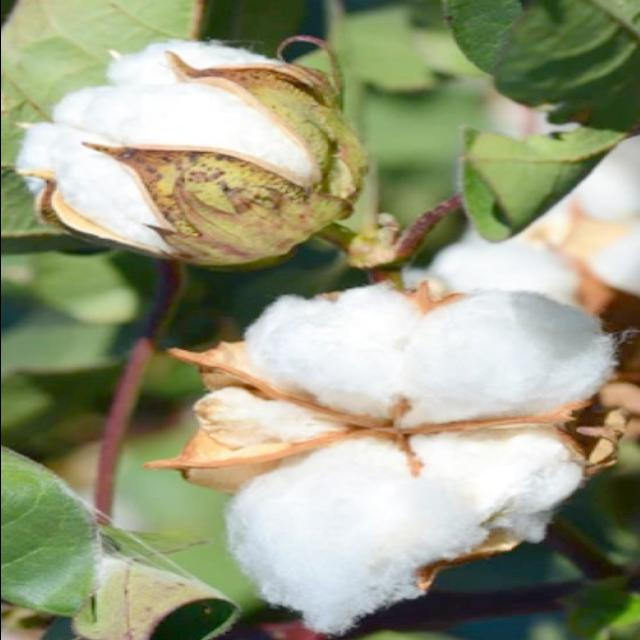Matured Cotton Boll: (174, 280, 596, 578)
Split Cotton Boll: (23, 42, 373, 261)
